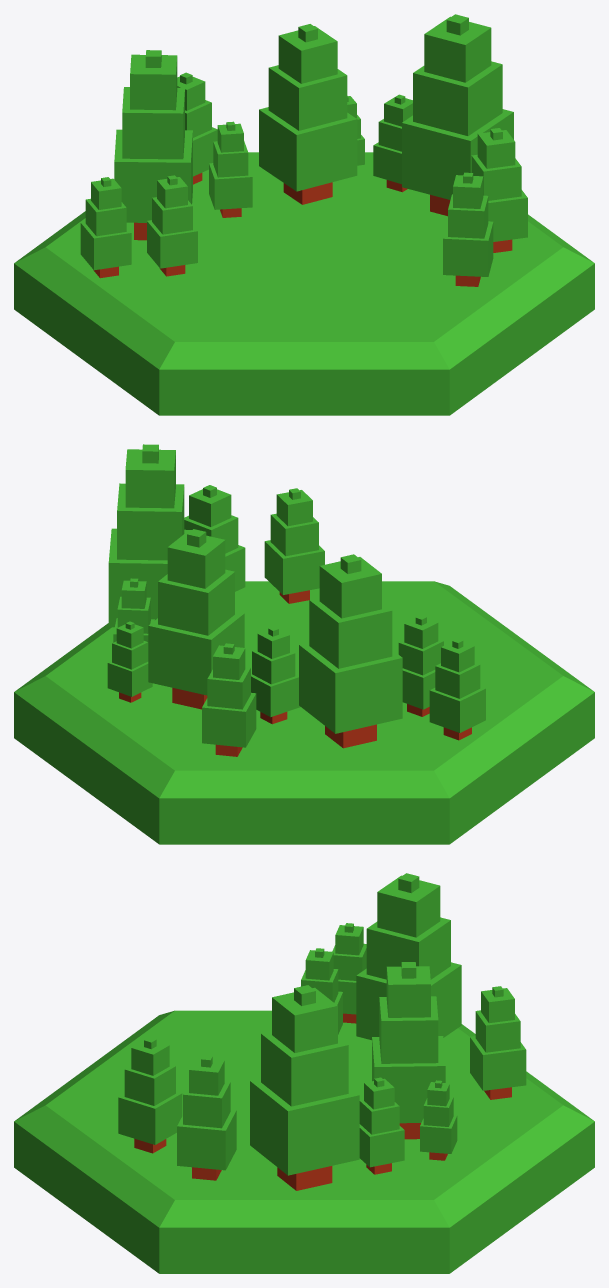
The model's file is empty_center_forest_prefab_2.fbx.
3 renders of one model, top to bottom at view 1: azimuth 30°, elevation 25°; view 2: azimuth 150°, elevation 25°; view 3: azimuth 270°, elevation 25°, orthographic.
Visible parts, largest first — view 1: tile, tree.012, tree, tree.002, tree.010, tree.013, tree.006, tree.007, tree.003, tree.004, tree.001; view 2: tile, tree.002, tree, tree.012, tree.010, tree.001, tree.006, tree.003, tree.007, tree.013, tree.005, tree.004; view 3: tile, tree.012, tree.002, tree, tree.013, tree.010, tree.001, tree.004, tree.005, tree.006, tree.007.
Part boxes in pixels (box(x1,y1,x2,y2)): tile: box(14, 152, 594, 415); tree.012: box(402, 14, 513, 216); tree: box(259, 24, 357, 204); tree.002: box(114, 50, 192, 240); tree.010: box(443, 172, 493, 286); tree.013: box(471, 128, 527, 252); tree.006: box(80, 177, 131, 278); tree.007: box(147, 175, 197, 276); tree.003: box(209, 121, 252, 217); tree.004: box(373, 94, 412, 192); tree.001: box(177, 72, 217, 184); tile: box(14, 581, 594, 844); tree.002: box(299, 554, 402, 748); tree: box(148, 529, 244, 709); tree.012: box(108, 444, 191, 627); tree.010: box(264, 488, 324, 603); tree.001: box(202, 643, 256, 756); tree.006: box(429, 638, 485, 740); tree.003: box(251, 626, 300, 724); tree.007: box(398, 615, 443, 716); tree.013: box(184, 485, 245, 591); tree.005: box(107, 621, 152, 702); tree.004: box(113, 578, 154, 642); tile: box(14, 1010, 594, 1273); tree.012: box(250, 985, 359, 1190); tree.002: box(356, 873, 461, 1040); tree: box(372, 962, 445, 1139); tree.013: box(177, 1055, 236, 1180); tree.010: box(118, 1037, 182, 1153); tree.001: box(470, 986, 526, 1099); tree.004: box(359, 1077, 404, 1174); tree.005: box(420, 1080, 457, 1160); tree.006: box(332, 923, 366, 1023); tree.007: box(301, 948, 342, 1034).
Bounding box in the file's own units: 16.93 × 9.39 × 19.55.
